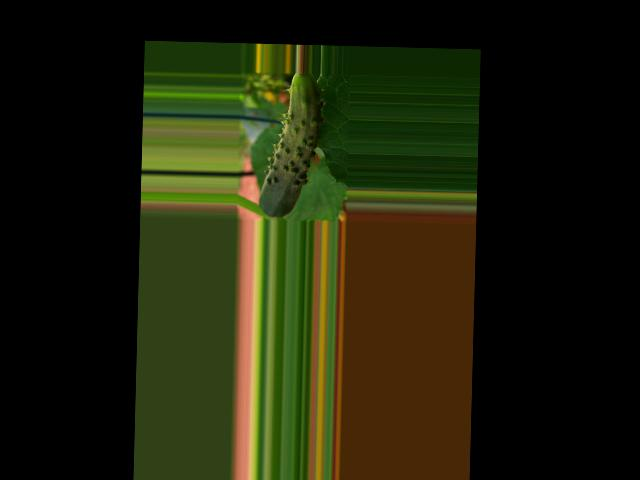cucumber: (259, 73, 324, 219)
